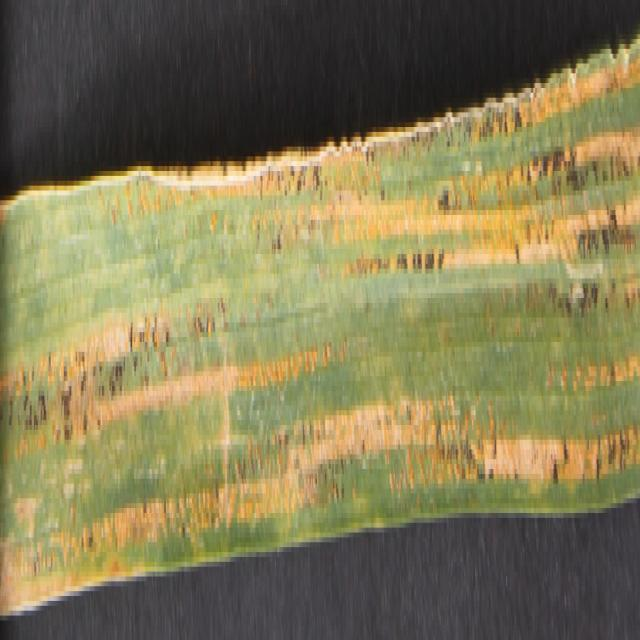leaf rust: (1, 54, 640, 581)
